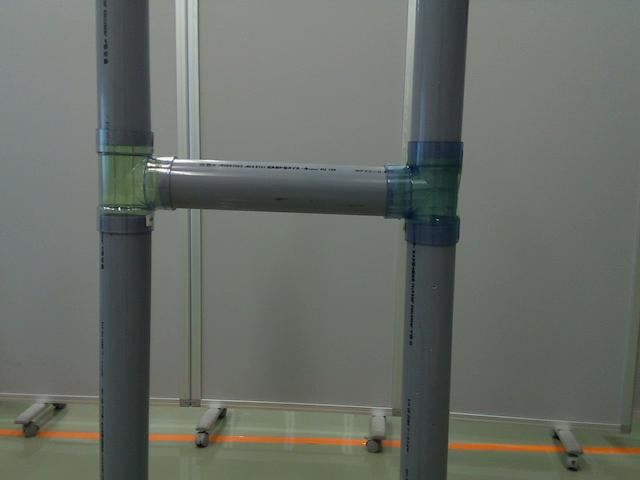junction: (384, 144, 466, 248), (96, 135, 171, 238)
